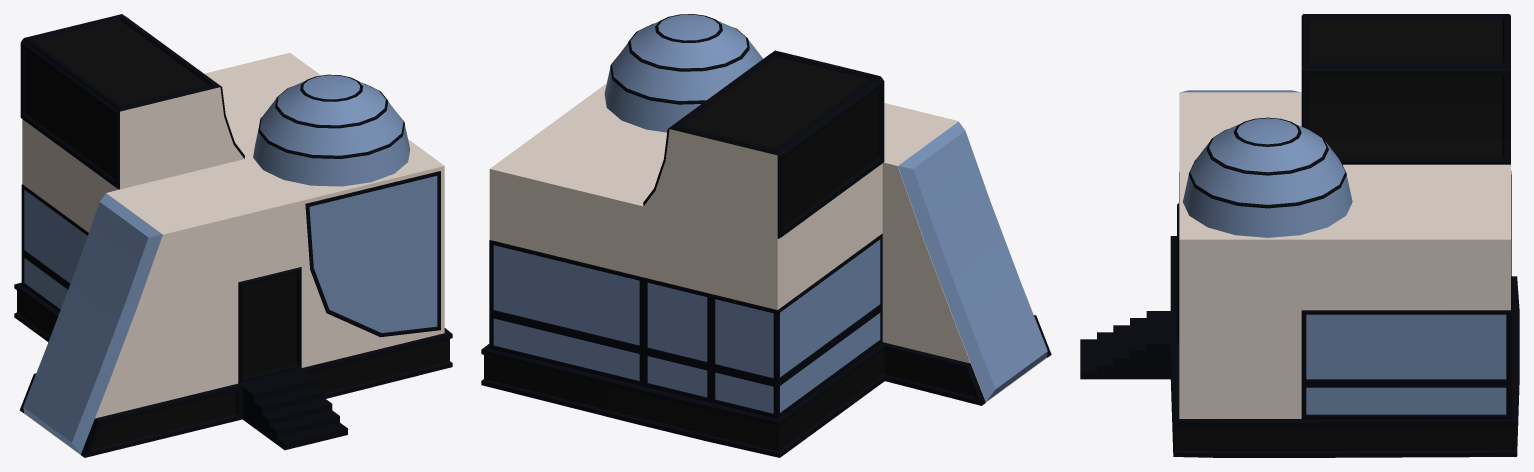
File: Human habitats.FBX
3 renders of one model, left to right at view 1: azimuth 30°, elevation 25°; view 2: azimuth 150°, elevation 25°; view 3: azimuth 270°, elevation 25°, orthographic. The views are drawn at different scales.
Parts seen in each view (by area): view 1: House; view 2: House; view 3: House.
Boxes of the visible parts, x1,y1,x2,y2 form: House: [14, 14, 452, 457]; House: [481, 14, 1051, 457]; House: [1080, 14, 1519, 457].
Size of the model in its own units: 93.01 by 66.39 by 87.86.
